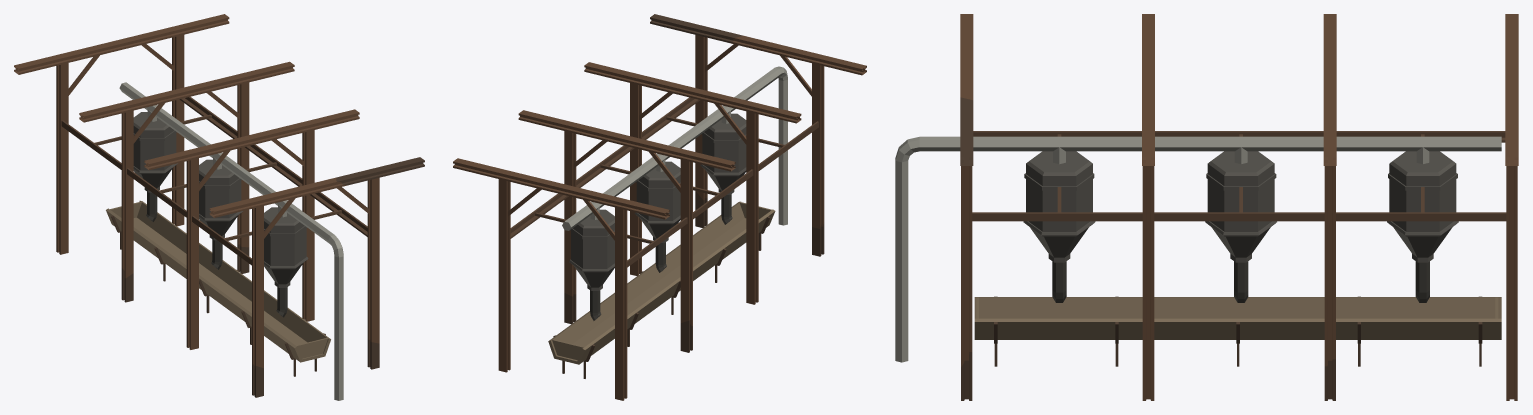
The model's file is SM_Props_Farm_Generic_01.fbx.
The picture shows the model from 3 angles, left to right: view 1: azimuth 30°, elevation 25°; view 2: azimuth 150°, elevation 25°; view 3: azimuth 270°, elevation 25°; orthographic projection. The views are drawn at different scales.
Parts seen in each view (by area): view 1: SM_Props_Farm_Generic_01; view 2: SM_Props_Farm_Generic_01; view 3: SM_Props_Farm_Generic_01.
Boxes of the visible parts, x1,y1,x2,y2 form: SM_Props_Farm_Generic_01: (14, 14, 424, 400); SM_Props_Farm_Generic_01: (453, 14, 866, 400); SM_Props_Farm_Generic_01: (895, 14, 1518, 400).
Bounding box in the file's own units: 560 × 500 × 1028.
